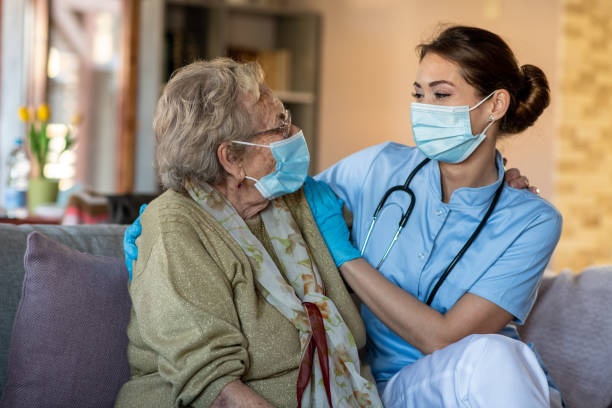with mask: (207, 60, 324, 220), (402, 40, 502, 162)
